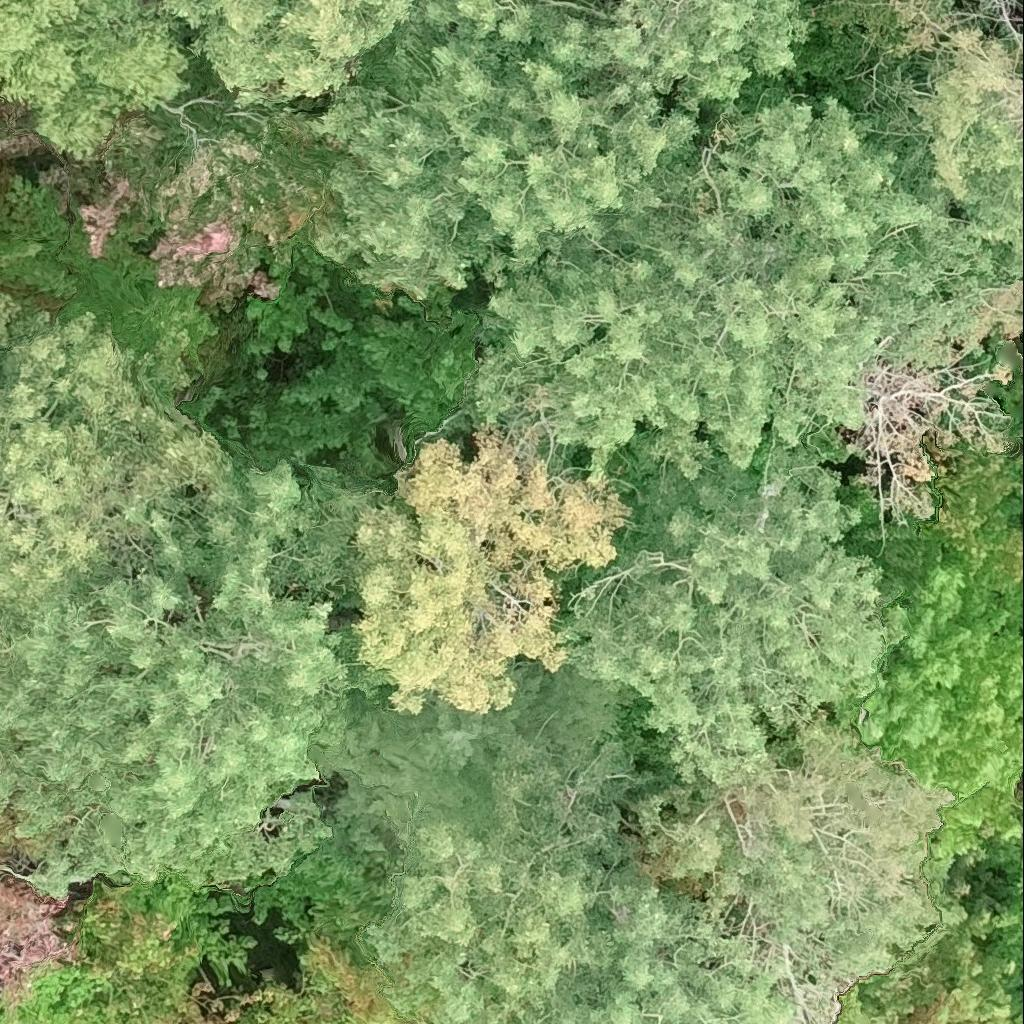crown: (475, 97, 1023, 526), (369, 704, 953, 1023), (0, 442, 392, 901), (552, 445, 905, 785), (304, 0, 700, 297), (0, 297, 236, 654), (355, 423, 628, 712), (78, 40, 345, 314), (849, 566, 1023, 866), (864, 0, 1023, 276), (13, 866, 254, 1023), (459, 0, 809, 97), (828, 849, 1023, 1023), (0, 0, 197, 156), (161, 0, 439, 107), (281, 283, 481, 427), (57, 211, 220, 371), (927, 449, 1023, 633), (228, 938, 434, 1023), (0, 162, 78, 324), (0, 838, 16, 865), (0, 1003, 10, 1023), (442, 0, 460, 8), (0, 125, 4, 143), (1020, 323, 1023, 330)
